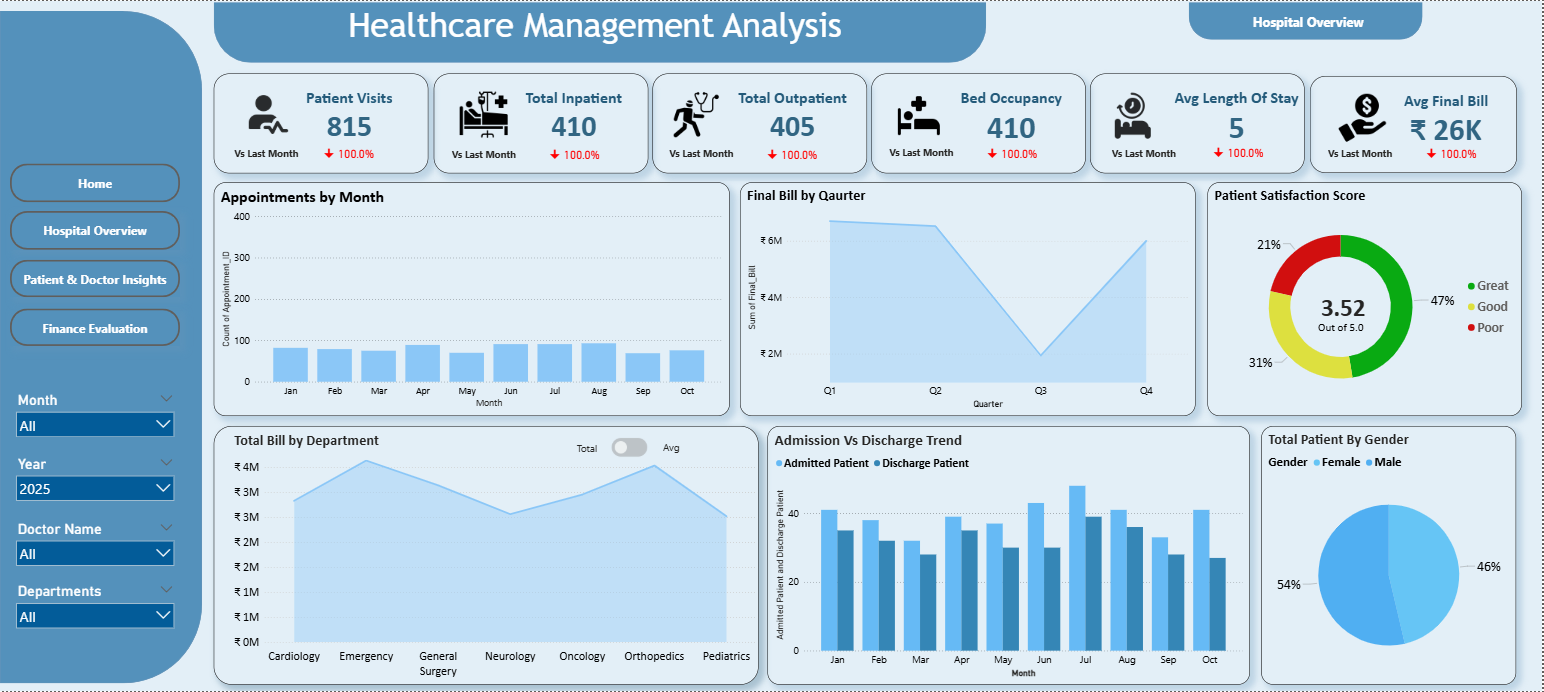

The page's visual inventory and layout, read from the dashboard file:
{"tool":"powerbi","page":{"name":"Hospital Overview","canvas":[2570,1150],"ordinal":1},"visuals":[{"type":"shape","box":[0,16.3,336.7,1120.4],"z":0},{"type":"areaChart","title":"Final Bill by Qaurter ","fields":{"Category":["Date_Table.Quarter"],"Y":["Sum(Billing_Table.Final_Bill)"]},"box":[1234.1,301.3,759.3,389.7],"z":0,"group":"g1"},{"type":"slicer","fields":{"Values":["Date_Table.Month"]},"box":[16.3,644.9,283.7,87.8],"z":1000},{"type":"pieChart","title":"Total Patient By Gender","fields":{"Y":["Count(Appointment_Table.Appointment_ID)"],"Category":["Patient_Table.Gender"]},"box":[2101.5,708.9,425,431.2],"z":1000,"group":"g1"},{"type":"shape","box":[355.9,2.6,1287.5,100.8],"z":2000,"group":"g1"},{"type":"slicer","fields":{"Values":["Date_Table.Year"]},"box":[16.3,753.1,283.7,87.8],"z":2000},{"type":"cardVisual","title":"Toal Patient","fields":{"Data":["Billing_Table.Avg Final Bill"]},"box":[2183.1,124.4,344.5,161.2],"z":3000,"group":"g1"},{"type":"slicer","fields":{"Values":["Doctor_Table.Dr_Name"]},"box":[16.3,861.2,283.7,87.8],"z":3000},{"type":"shape","box":[1980.7,2.1,389.6,62.5],"z":4000,"group":"g1"},{"type":"slicer","fields":{"Values":["Doctor_Table.Dr_Department"]},"box":[16.3,965.3,283.7,87.8],"z":4000},{"type":"textbox","box":[347.9,2.6,1287.5,81.9],"z":5000,"group":"g1"},{"type":"actionButton","box":[16.7,350,283.3,64.6],"z":5000},{"type":"clusteredColumnChart","title":"Appointments by Month","fields":{"Category":["Date_Table.Month"],"Y":["Count(Appointment_Table.Appointment_ID)"]},"box":[356.9,301.3,859.8,389.7],"z":6000,"group":"g1"},{"type":"actionButton","box":[16.7,431.2,283.3,62.5],"z":6000},{"type":"actionButton","box":[16.7,270.8,283.3,64.6],"z":7000},{"type":"group","id":"g1","title":"Group 1","box":[347.9,2.1,2187.5,1138],"z":8000},{"type":"cardVisual","title":"Toal Patient","fields":{"Data":["Appointment_Table.Total Patients"]},"box":[356.9,120.8,357.6,166.1],"z":8000,"group":"g1"},{"type":"cardVisual","fields":{"Data":["Appointment_Table.VS Last Month Patient"]},"box":[533.3,225.4,110.5,43.1],"z":9000,"group":"g1"},{"type":"actionButton","box":[16.7,512.5,283.3,62.5],"z":9000},{"type":"cardVisual","title":"Toal Patient","fields":{"Data":["Patient_Table.Bed Occupancy"]},"box":[1451.7,120.8,357.6,166.1],"z":10000,"group":"g1"},{"type":"shape","box":[356.2,708.3,908.3,431.2],"z":10000},{"type":"cardVisual","fields":{"Data":["Patient_Table.VS Last Month Bed Occupancy"]},"box":[1630.5,225.4,110.5,43.1],"z":11000,"group":"g1"},{"type":"stackedAreaChart","title":"Average Bill by Department","fields":{"Category":["Doctor_Table.Dr_Department"],"Y":["Avg(Billing_Table.Final_Bill)"]},"box":[379.2,752.1,893.8,385.4],"z":11000},{"type":"cardVisual","fields":{"Data":["Billing_Table.VS Last Month Bill"]},"box":[2369.8,225.4,110.5,43.1],"z":12000,"group":"g1"},{"type":"cardVisual","title":"Toal Patient","fields":{"Data":["Patient_Table.Avg Length Of Stay"]},"box":[1816.8,120.8,357.3,166.1],"z":13000,"group":"g1"},{"type":"image","title":"Avg","box":[981.2,706.2,137.5,75],"z":13000},{"type":"cardVisual","fields":{"Data":["Patient_Table.VS Last Month LOS"]},"box":[2020.3,225.4,110.5,43.1],"z":14000,"group":"g1"},{"type":"textbox","title":"Avg Text box","box":[385.4,708.3,345.8,50],"z":14000},{"type":"textbox","box":[385.1,237.7,122.5,39],"z":15000,"group":"g1"},{"type":"cardVisual","title":"Toal Patient","fields":{"Data":["Patient_Table.Total Inpatient"]},"box":[722.3,120.8,357.6,166.1],"z":16000,"group":"g1"},{"type":"cardVisual","fields":{"Data":["Patient_Table.VS Last Month Inpatient"]},"box":[915.4,229.5,110.5,43.1],"z":17000,"group":"g1"},{"type":"textbox","box":[935.4,729.2,85.4,33.3],"z":17000},{"type":"textbox","box":[748.7,239.7,134.6,45.1],"z":18000,"group":"g1"},{"type":"textbox","box":[1081.2,727.1,75,37.5],"z":18000},{"type":"cardVisual","title":"Toal Patient","fields":{"Data":["Patient_Table.Total Outpatient"]},"box":[1086.5,120.8,357.6,166.1],"z":19000,"group":"g1"},{"type":"cardVisual","fields":{"Data":["Patient_Table.VS Last Month Outpatient"]},"box":[1264.9,229.5,110.2,43.1],"z":20000,"group":"g1"},{"type":"textbox","box":[1110.2,237.7,126.6,43.1],"z":21000,"group":"g1"},{"type":"textbox","box":[1477.9,235.6,126.6,39],"z":22000,"group":"g1"},{"type":"textbox","box":[1847.5,237.7,126.6,36.9],"z":23000,"group":"g1"},{"type":"textbox","box":[2208.6,237.7,132.6,34.9],"z":24000,"group":"g1"},{"type":"lineClusteredColumnComboChart","title":"Admission Vs Discharge Trend","fields":{"Category":["Date_Table.Month"],"Y":["Patient_Table.Admitted Patient","Patient_Table.Discharge Patient"]},"box":[1278.6,708.9,804.2,431.2],"z":25000,"group":"g1"},{"type":"donutChart","title":"Patient Satisfaction Score","fields":{"Y":["Count(Patient_Feedback.Patient_ID)"],"Category":["Patient_Feedback.Feedback Category"]},"box":[2011.7,301.2,523.7,389.9],"z":26000,"group":"g1"},{"type":"card","fields":{"Values":["Avg(Patient_Feedback.Rating)"]},"box":[2183,460,110.2,116.6],"z":27000,"group":"g1"},{"type":"textbox","box":[2010.6,14.4,339.6,47.9],"z":28000,"group":"g1"},{"type":"textbox","box":[2191.9,527.3,106.3,40.2],"z":29000,"group":"g1"}]}

Visuals, with their boxes in screenshot pixels (x1, y1, x2, y2), scaled from the page's 2570x1150 canvas onto the 1544x692 screenshot:
shape: <box>0,10,202,684</box>
"Final Bill by Qaurter " areaChart: <box>741,181,1198,416</box>
slicer - Date_Table.Month: <box>10,388,180,441</box>
"Total Patient By Gender" pieChart: <box>1263,427,1518,686</box>
shape: <box>214,2,987,62</box>
slicer - Date_Table.Year: <box>10,453,180,506</box>
"Toal Patient" cardVisual: <box>1312,75,1519,172</box>
slicer - Doctor_Table.Dr_Name: <box>10,518,180,571</box>
shape: <box>1190,1,1424,39</box>
slicer - Doctor_Table.Dr_Department: <box>10,581,180,634</box>
textbox: <box>209,2,983,51</box>
actionButton: <box>10,211,180,249</box>
"Appointments by Month" clusteredColumnChart: <box>214,181,731,416</box>
actionButton: <box>10,259,180,297</box>
actionButton: <box>10,163,180,202</box>
"Group 1" group: <box>209,1,1523,686</box>
"Toal Patient" cardVisual: <box>214,73,429,173</box>
cardVisual - Appointment_Table.VS Last Month Patient: <box>320,136,387,162</box>
actionButton: <box>10,308,180,346</box>
"Toal Patient" cardVisual: <box>872,73,1087,173</box>
shape: <box>214,426,760,686</box>
cardVisual - Patient_Table.VS Last Month Bed Occupancy: <box>980,136,1046,162</box>
"Average Bill by Department" stackedAreaChart: <box>228,453,765,684</box>
cardVisual - Billing_Table.VS Last Month Bill: <box>1424,136,1490,162</box>
"Toal Patient" cardVisual: <box>1091,73,1306,173</box>
"Avg" image: <box>589,425,672,470</box>
cardVisual - Patient_Table.VS Last Month LOS: <box>1214,136,1280,162</box>
"Avg Text box" textbox: <box>232,426,439,456</box>
textbox: <box>231,143,305,167</box>
"Toal Patient" cardVisual: <box>434,73,649,173</box>
cardVisual - Patient_Table.VS Last Month Inpatient: <box>550,138,616,164</box>
textbox: <box>562,439,613,459</box>
textbox: <box>450,144,531,171</box>
textbox: <box>650,438,695,460</box>
"Toal Patient" cardVisual: <box>653,73,868,173</box>
cardVisual - Patient_Table.VS Last Month Outpatient: <box>760,138,826,164</box>
textbox: <box>667,143,743,169</box>
textbox: <box>888,142,964,165</box>
textbox: <box>1110,143,1186,165</box>
textbox: <box>1327,143,1407,164</box>
"Admission Vs Discharge Trend" lineClusteredColumnComboChart: <box>768,427,1251,686</box>
"Patient Satisfaction Score" donutChart: <box>1209,181,1523,416</box>
card - Avg(Patient_Feedback.Rating): <box>1311,277,1378,347</box>
textbox: <box>1208,9,1412,37</box>
textbox: <box>1317,317,1381,341</box>
